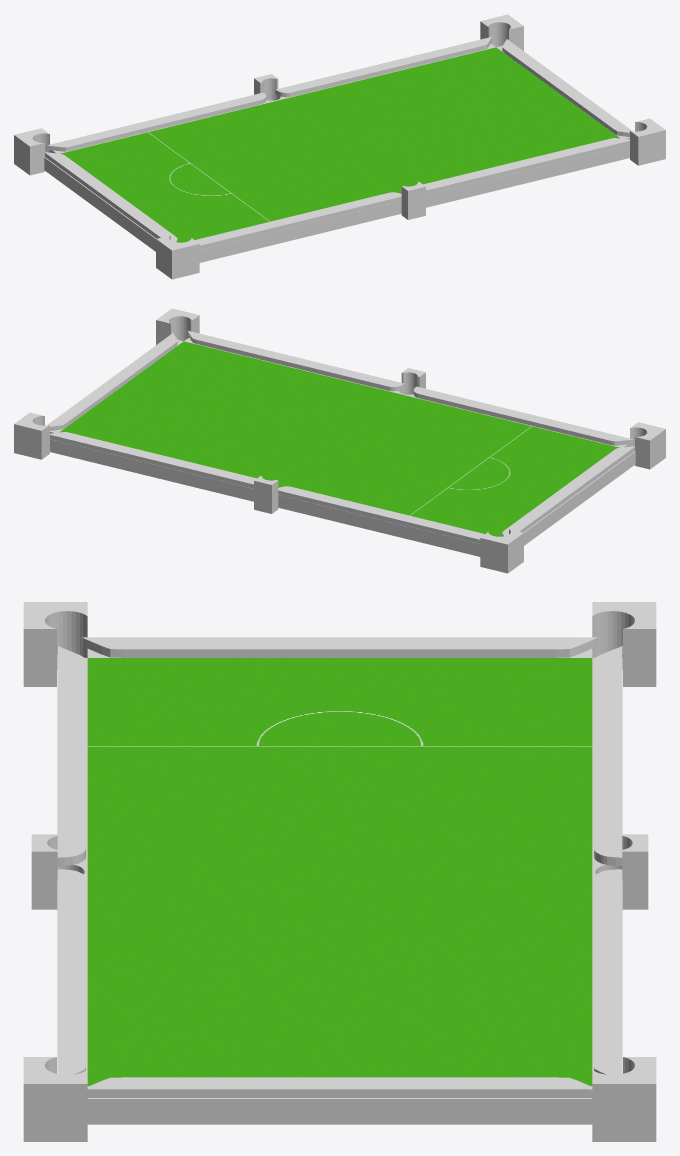
The model's file is newTable.fbx.
3 renders of one model, top to bottom at view 1: azimuth 30°, elevation 25°; view 2: azimuth 150°, elevation 25°; view 3: azimuth 270°, elevation 25°, orthographic. The views are drawn at different scales.
Visible parts, largest first — view 1: PlayingArea, SideCornerCushion, Cube.002, CornerPot, BottomCushion, Cube.001, SidePot; view 2: PlayingArea, SideCornerCushion, Cube.002, CornerPot, BottomCushion, Cube.001, SidePot; view 3: PlayingArea, SideCornerCushion, BottomCushion, CornerPot, Cube.001, SidePot, Cube.002.
Boxes of the visible parts, bbox=[...] form: PlayingArea: bbox=[60, 47, 619, 242]; SideCornerCushion: bbox=[46, 37, 629, 249]; Cube.002: bbox=[50, 43, 629, 262]; CornerPot: bbox=[14, 14, 665, 279]; BottomCushion: bbox=[45, 39, 632, 242]; Cube.001: bbox=[44, 46, 629, 251]; SidePot: bbox=[254, 74, 425, 219]; PlayingArea: bbox=[60, 341, 619, 536]; SideCornerCushion: bbox=[50, 330, 633, 543]; Cube.002: bbox=[50, 337, 629, 556]; CornerPot: bbox=[14, 308, 665, 573]; BottomCushion: bbox=[47, 333, 634, 536]; Cube.001: bbox=[50, 340, 635, 545]; SidePot: bbox=[254, 368, 425, 513]; PlayingArea: bbox=[87, 658, 592, 1085]; SideCornerCushion: bbox=[57, 646, 622, 1074]; BottomCushion: bbox=[82, 637, 597, 1097]; CornerPot: bbox=[23, 602, 656, 1141]; Cube.001: bbox=[87, 649, 592, 1124]; SidePot: bbox=[31, 834, 648, 909]; Cube.002: bbox=[57, 658, 622, 1073].
Size of the model in its own units: 402 by 223 by 22.6.
